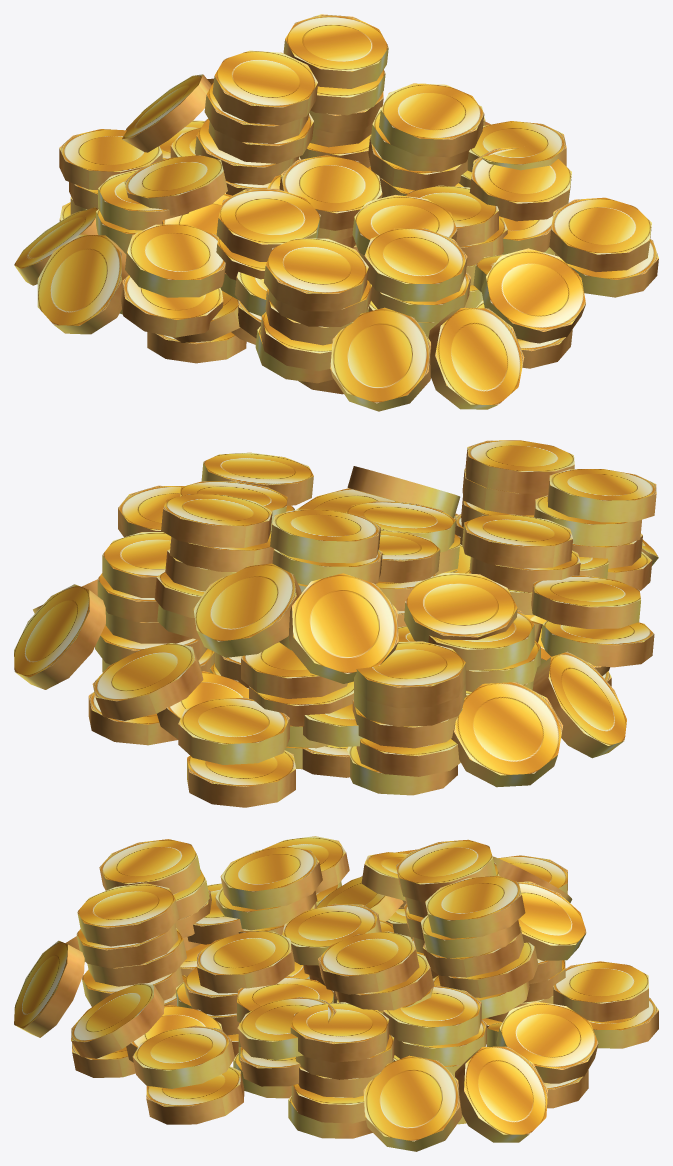
The model's file is goldCoins.FBX.
The picture shows the model from 3 angles, top to bottom: view 1: azimuth 30°, elevation 25°; view 2: azimuth 150°, elevation 25°; view 3: azimuth 270°, elevation 25°; orthographic projection. The views are drawn at different scales.
Parts seen in each view (by area): view 1: Object62; view 2: Object62; view 3: Object62.
Part boxes in pixels (x1=…): Object62: x1=14, y1=14, x2=658, y2=411; Object62: x1=14, y1=440, x2=658, y2=807; Object62: x1=14, y1=836, x2=658, y2=1151.
Size of the model in its own units: 2.32 by 0.796 by 2.56.
1 material, 1 textured.
